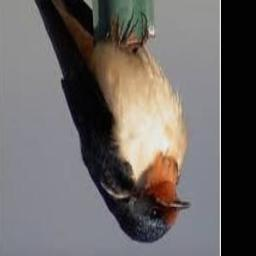Swallow: (12, 0, 191, 245)
